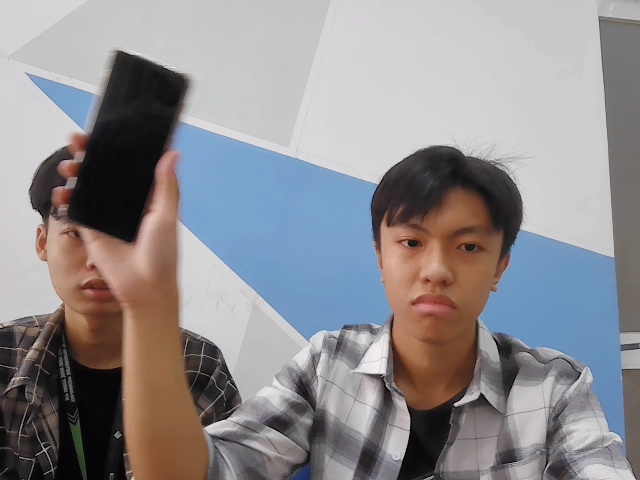human: (364, 139, 528, 336)
phone: (70, 46, 193, 258)
